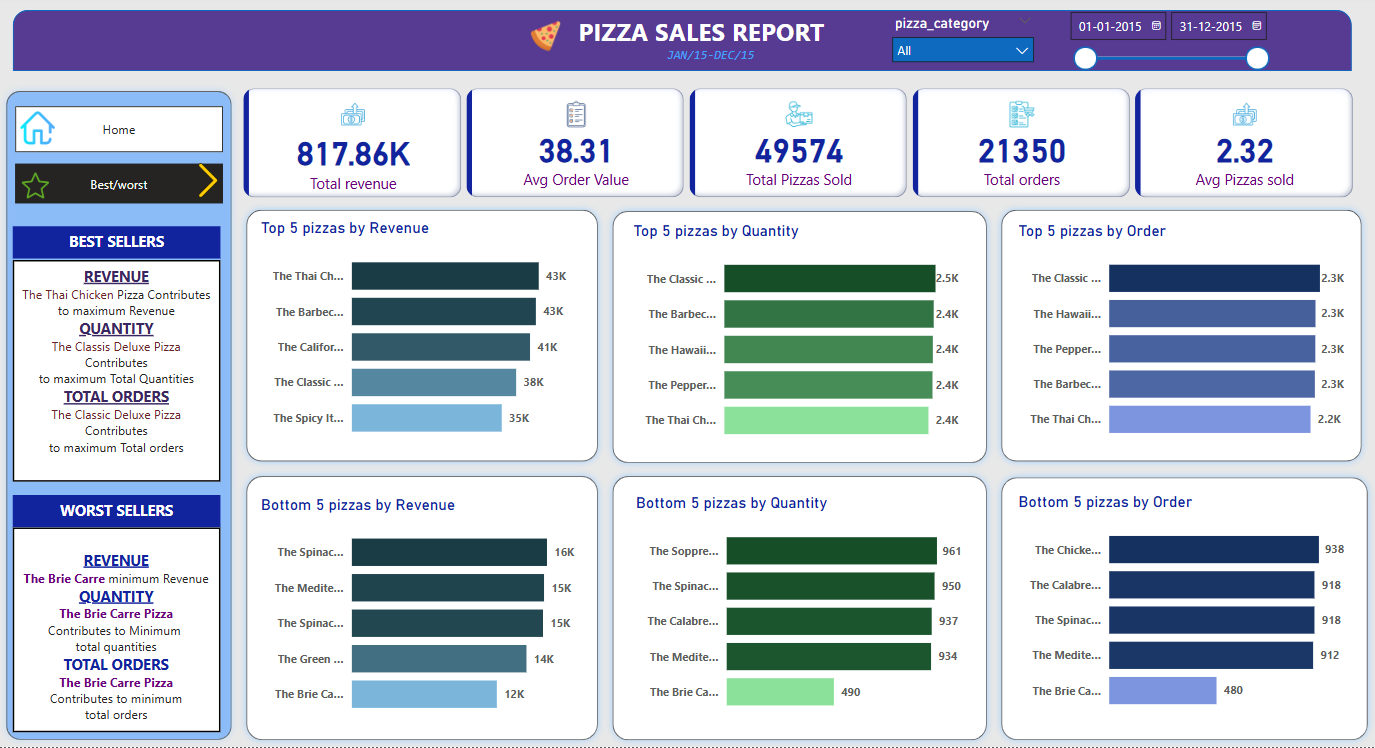

This screenshot's page, from the dashboard's own definition file:
{"tool":"powerbi","page":{"name":"Best/worst","canvas":[1500,820],"ordinal":1},"visuals":[{"type":"cardVisual","fields":{"Data":["pizza_sales.Total revenue","pizza_sales.Avg Order Value","pizza_sales.Total Pizzas Sold","pizza_sales.Total orders","pizza_sales.Avg Pizzas sold"]},"box":[261.6,96.7,1220.9,129.5],"z":0},{"type":"shape","box":[15,16.4,1467.6,66.8],"z":1000},{"type":"textbox","box":[626.8,16.4,298.4,46.3],"z":2000},{"type":"textbox","box":[707.2,50.4,137.6,32.7],"z":3000},{"type":"image","box":[565.5,23.2,61.3,43.6],"z":4000},{"type":"shape","box":[261.6,226.2,399.3,290.2],"z":10000},{"type":"shape","box":[0,96.7,261.6,723.6],"z":15000},{"type":"textbox","box":[15,252.1,226.2,35.4],"z":16000},{"type":"textbox","box":[15,288.3,226.7,241.7],"z":17000},{"type":"textbox","box":[15,545.1,226.2,35.4],"z":18000},{"type":"textbox","box":[15,580.5,226.2,223.5],"z":19000},{"type":"slicer","fields":{"Values":["pizza_sales.pizza_category"]},"box":[963.4,16.4,174.4,66.8],"z":20000},{"type":"slicer","fields":{"Values":["pizza_sales.order_date"]},"box":[1155.5,8.2,237.1,88.6],"z":21000},{"type":"shape","box":[1084.7,226.2,408.8,290.2],"z":21001},{"type":"shape","box":[660.9,227.6,423.8,290.2],"z":21002},{"type":"shape","box":[261.6,516.4,399.3,303.9],"z":21003},{"type":"shape","box":[660.9,516.4,423.8,303.9],"z":21004},{"type":"shape","box":[1084.7,517.8,415.6,302.5],"z":21005},{"type":"clusteredBarChart","title":"Top 5 pizzas by Revenue","fields":{"Y":["pizza_sales.Total revenue"],"Category":["pizza_sales.pizza_name"]},"box":[280.7,243.9,363.8,253.5],"z":21006},{"type":"clusteredBarChart","title":"Bottom 5 pizzas by Revenue","fields":{"Y":["pizza_sales.Total revenue"],"Category":["pizza_sales.pizza_name"]},"box":[280.7,545.1,363.8,253.5],"z":21007},{"type":"clusteredBarChart","title":"Top 5 pizzas by Quantity","fields":{"Category":["pizza_sales.pizza_name"],"Y":["pizza_sales.Total Pizzas Sold"]},"box":[686.8,246.6,363.8,253.5],"z":21008},{"type":"clusteredBarChart","title":"Bottom 5 pizzas by Quantity","fields":{"Category":["pizza_sales.pizza_name"],"Y":["pizza_sales.Total Pizzas Sold"]},"box":[689.9,543.5,365,252.5],"z":21009},{"type":"clusteredBarChart","title":"Top 5 pizzas by Order","fields":{"Category":["pizza_sales.pizza_name"],"Y":["pizza_sales.Total orders"]},"box":[1106.4,246,365,252.5],"z":21010},{"type":"clusteredBarChart","title":"Bottom 5 pizzas by Order","fields":{"Category":["pizza_sales.pizza_name"],"Y":["pizza_sales.Total orders"]},"box":[1106.4,541.9,365,252.5],"z":21011},{"type":"pageNavigator","box":[17.7,121.3,226.2,50.4],"z":21012},{"type":"pageNavigator","box":[17.7,184,226.2,43.6],"z":21013},{"type":"image","box":[194.9,178.5,66.8,47.7],"z":21014},{"type":"image","box":[17.7,188,43.6,39.5],"z":21015},{"type":"image","box":[17.7,121.3,49.1,47.7],"z":21016}]}

Visuals, with their boxes in screenshot pixels (x1, y1, x2, y2), scaled from the page's 1500x820 canvas onto the 1375x748 screenshot:
cardVisual - pizza_sales.Total revenue x pizza_sales.Avg Order Value: 240 88 1359 206
shape: 14 15 1359 76
textbox: 575 15 848 57
textbox: 648 46 774 76
image: 518 21 575 61
shape: 240 206 606 471
shape: 0 88 240 747
textbox: 14 230 221 262
textbox: 14 263 222 483
textbox: 14 497 221 530
textbox: 14 530 221 733
slicer - pizza_sales.pizza_category: 883 15 1043 76
slicer - pizza_sales.order_date: 1059 7 1277 88
shape: 994 206 1369 471
shape: 606 208 994 472
shape: 240 471 606 747
shape: 606 471 994 747
shape: 994 472 1374 747
"Top 5 pizzas by Revenue" clusteredBarChart: 257 222 591 454
"Bottom 5 pizzas by Revenue" clusteredBarChart: 257 497 591 728
"Top 5 pizzas by Quantity" clusteredBarChart: 630 225 963 456
"Bottom 5 pizzas by Quantity" clusteredBarChart: 632 496 967 726
"Top 5 pizzas by Order" clusteredBarChart: 1014 224 1349 455
"Bottom 5 pizzas by Order" clusteredBarChart: 1014 494 1349 725
pageNavigator: 16 111 224 157
pageNavigator: 16 168 224 208
image: 179 163 240 206
image: 16 171 56 208
image: 16 111 61 154
